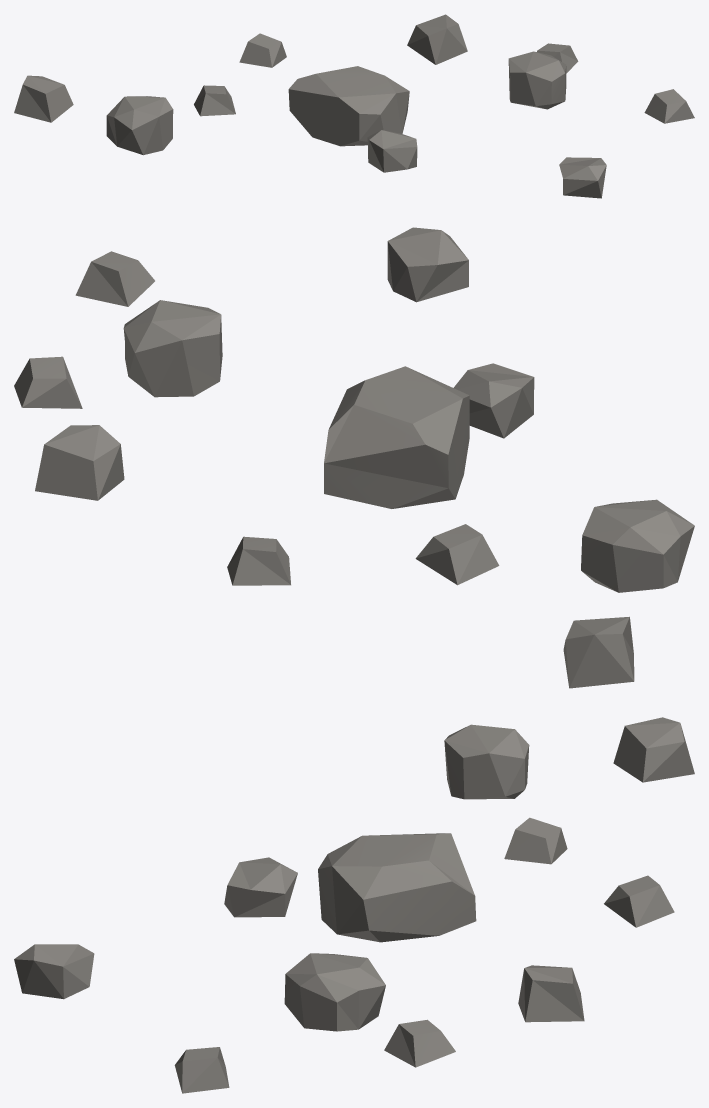
The model's file is SM_Prop_Rocks_01.obj.
3 views of the same model, one above another, from view 1: azimuth 30°, elevation 25°; view 2: azimuth 150°, elevation 25°; view 3: azimuth 270°, elevation 25° (orthographic). The views are drawn at different scales.
Parts seen in each view (by area): view 1: SM_Prop_Rocks_01_0; view 2: SM_Prop_Rocks_01_0; view 3: SM_Prop_Rocks_01_0.
Boxes of the visible parts, x1,y1,x2,y2 form: SM_Prop_Rocks_01_0: (14,14,694,198); SM_Prop_Rocks_01_0: (14,227,694,688); SM_Prop_Rocks_01_0: (14,717,694,1093).
Size of the model in its own units: 1.25 by 0.1406 by 1.05.
1 material, 1 textured.
